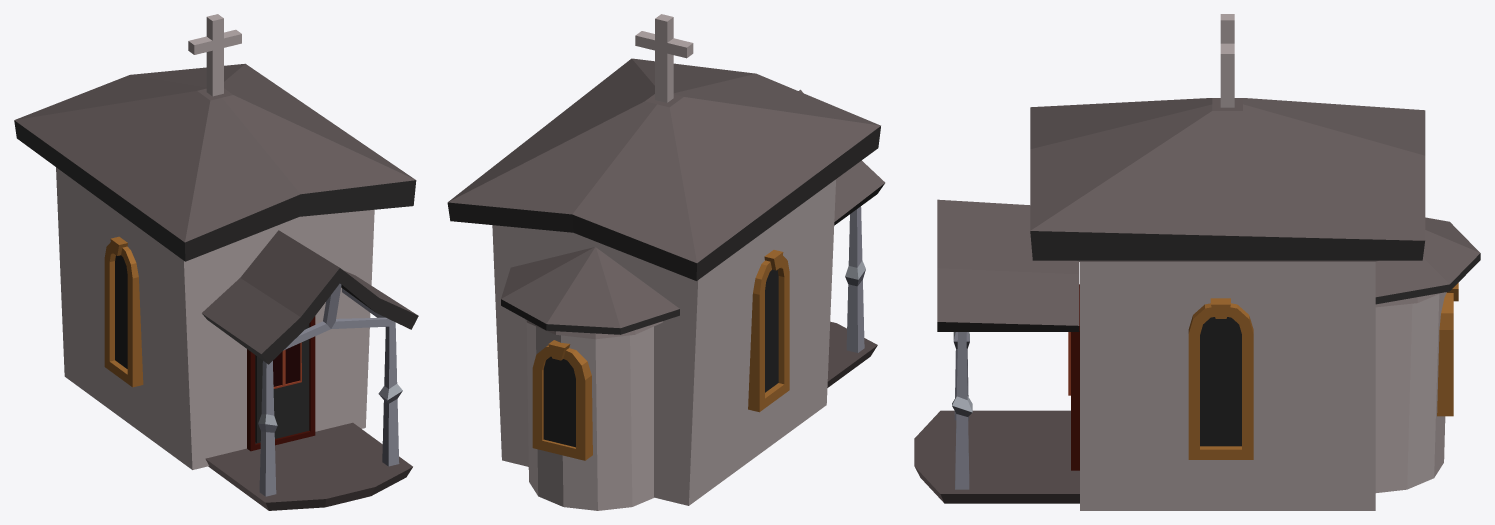
Rendered from HWN20_PetTomb_04.glb.
The picture shows the model from 3 angles, left to right: view 1: azimuth 30°, elevation 25°; view 2: azimuth 150°, elevation 25°; view 3: azimuth 270°, elevation 25°; orthographic projection. The views are drawn at different scales.
Parts seen in each view (by area): view 1: HWN20_PetTomb_04; view 2: HWN20_PetTomb_04; view 3: HWN20_PetTomb_04.
Boxes of the visible parts, box(x1,y1,x2,y2) form: HWN20_PetTomb_04: box(14, 14, 418, 510); HWN20_PetTomb_04: box(447, 14, 885, 510); HWN20_PetTomb_04: box(914, 14, 1480, 510).
Size of what is drawn, in the model's own units: 2.39 by 3.81 by 4.37.
Materials: 1 (1 with a texture image).
